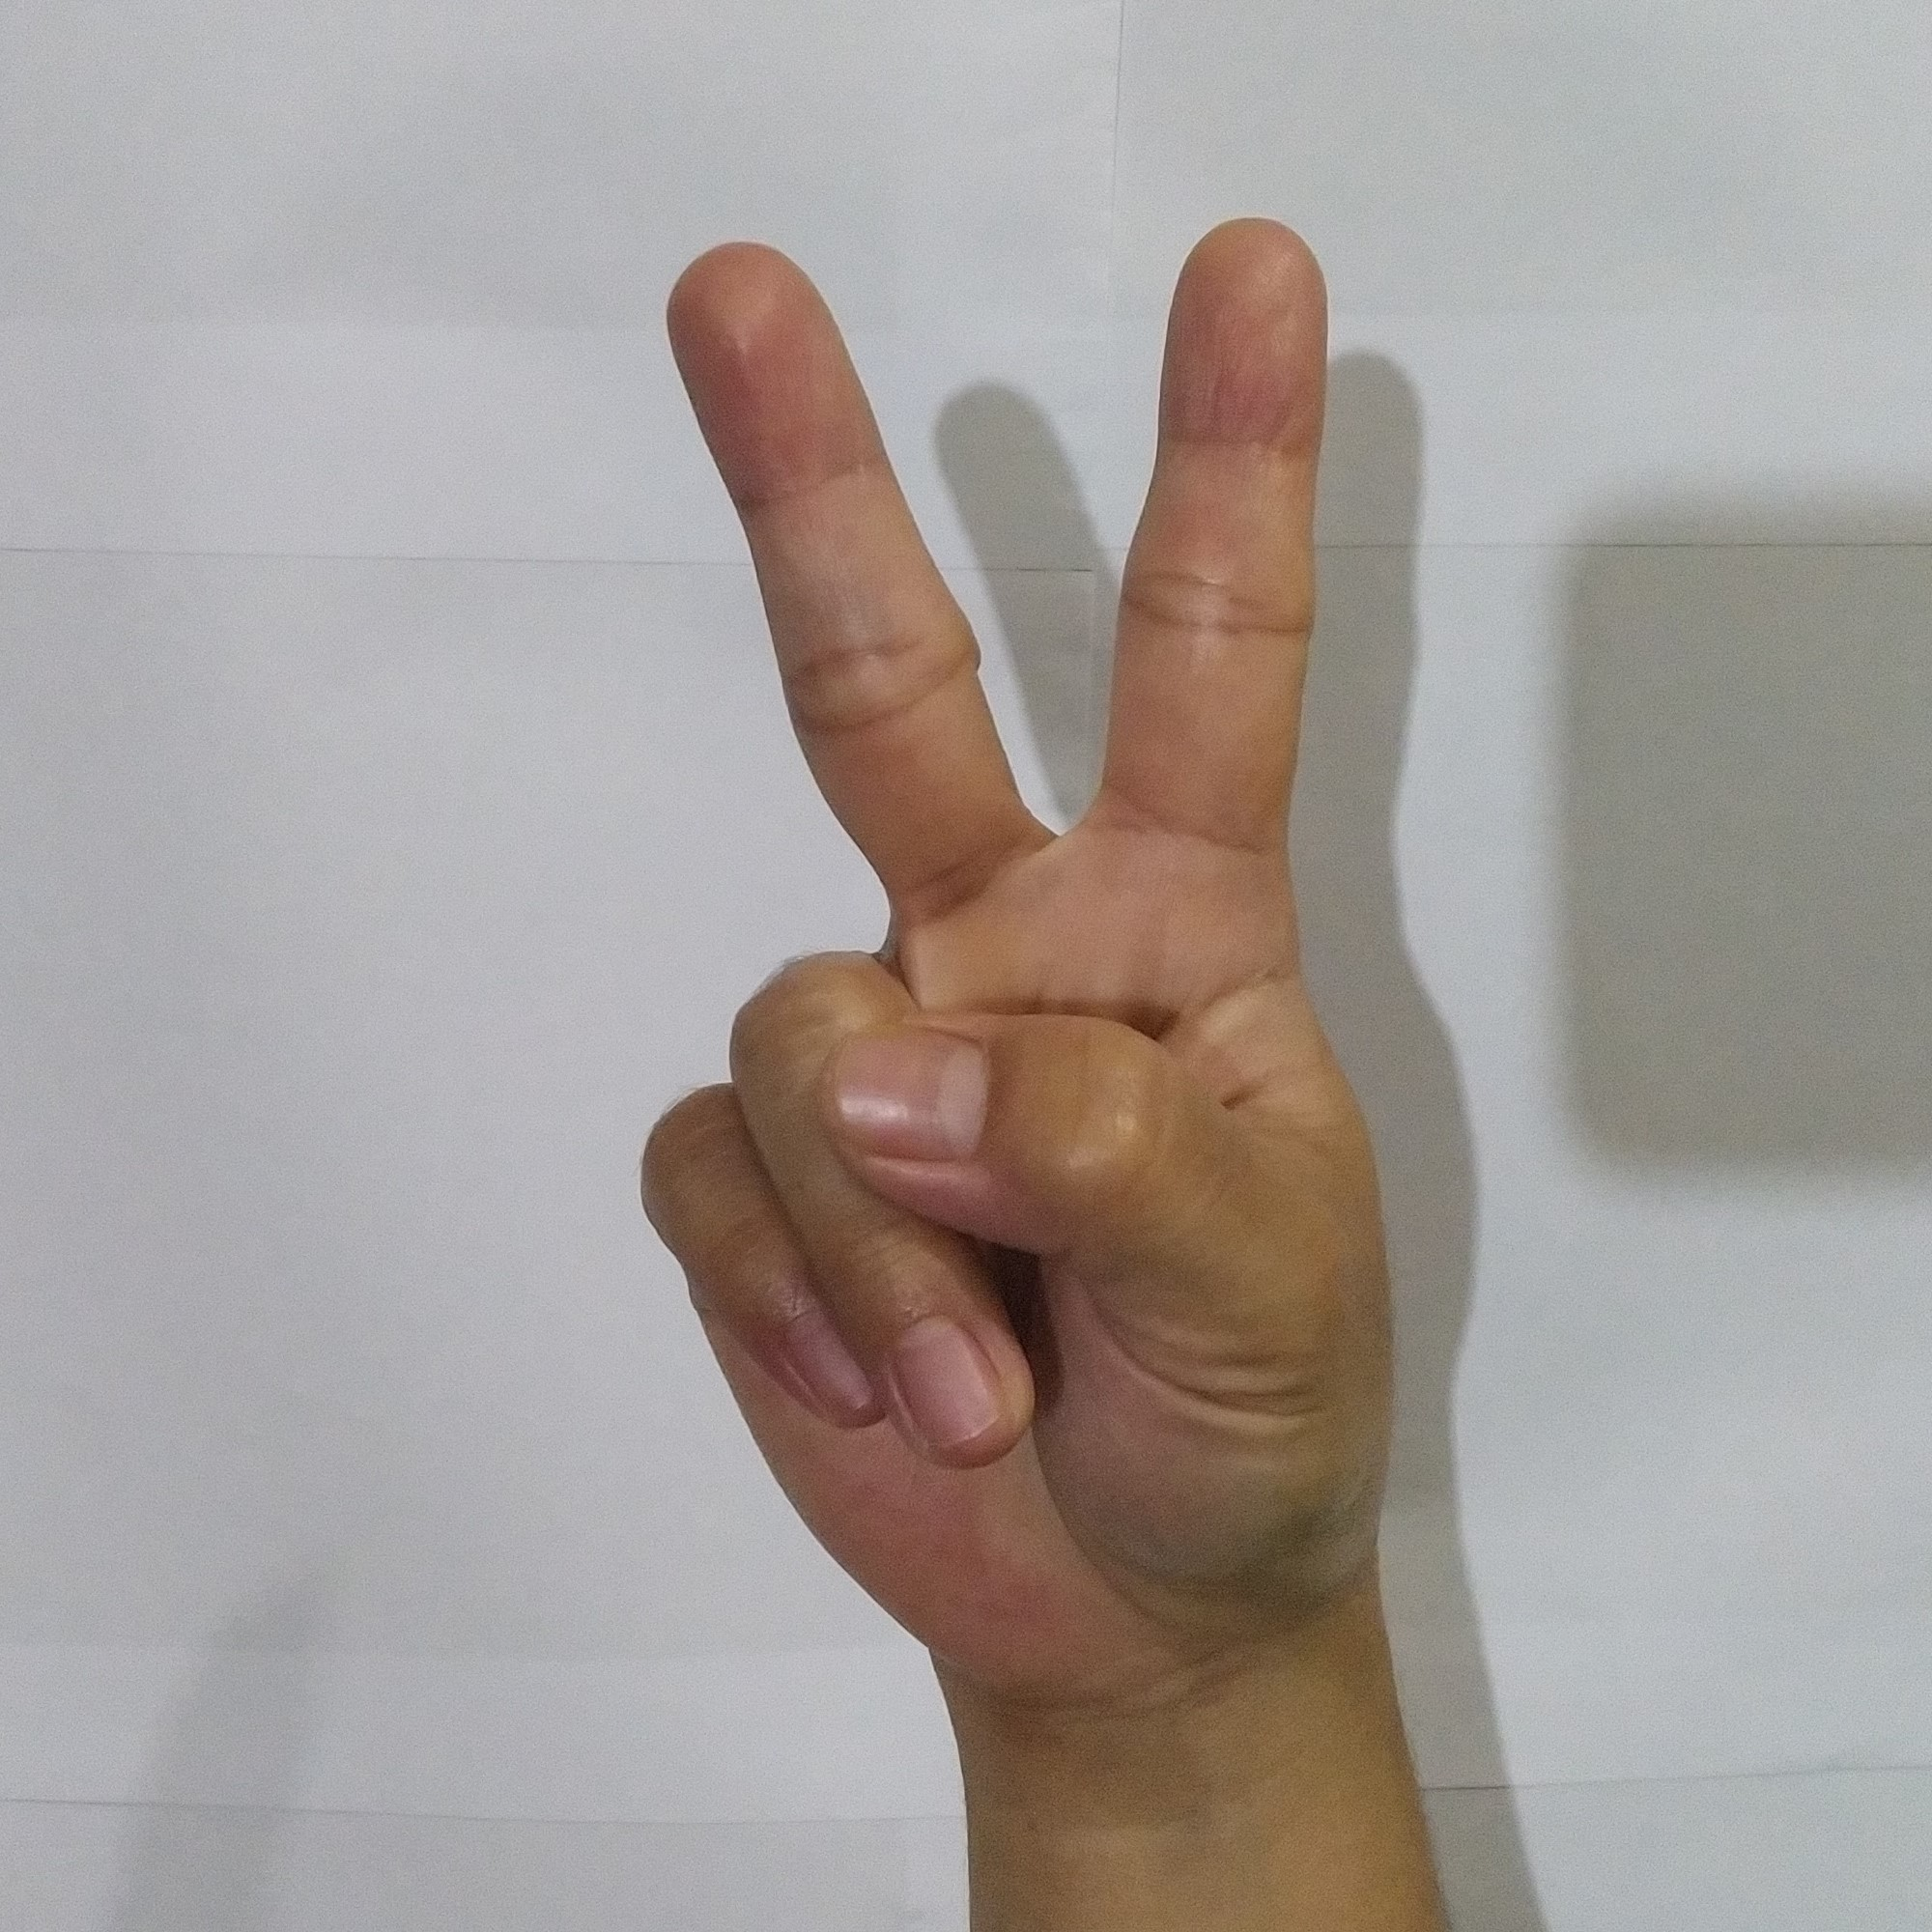V: (586, 186, 1426, 1661)
